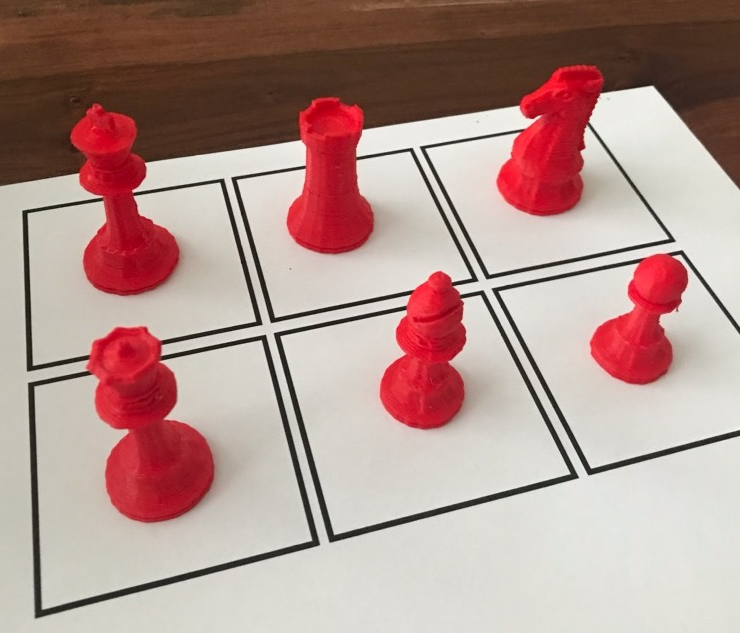Red Bishop: (372, 268, 482, 442)
Red Castle: (276, 92, 381, 258)
Red King: (52, 95, 192, 299)
Red Knight: (492, 57, 607, 219)
Red Pawn: (577, 245, 702, 390)
Red Queen: (73, 324, 223, 539)
